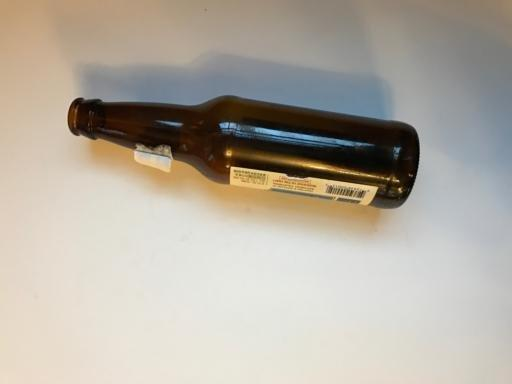botolkaca: (68, 96, 420, 209)
